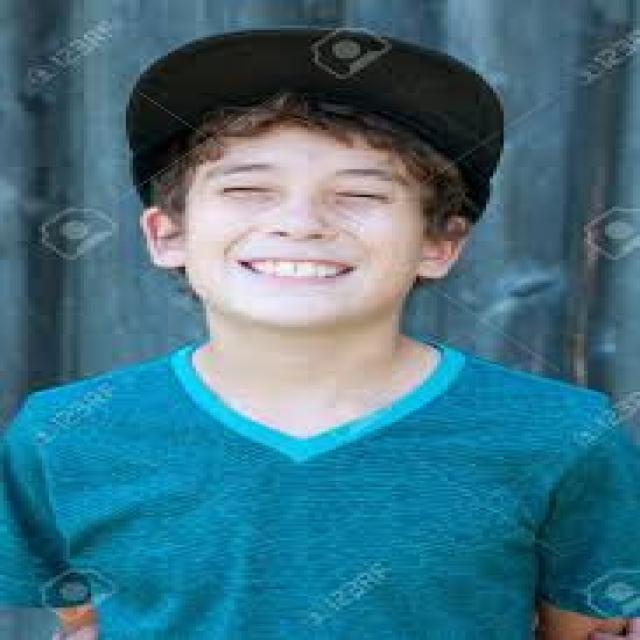happy: (120, 33, 482, 372)
